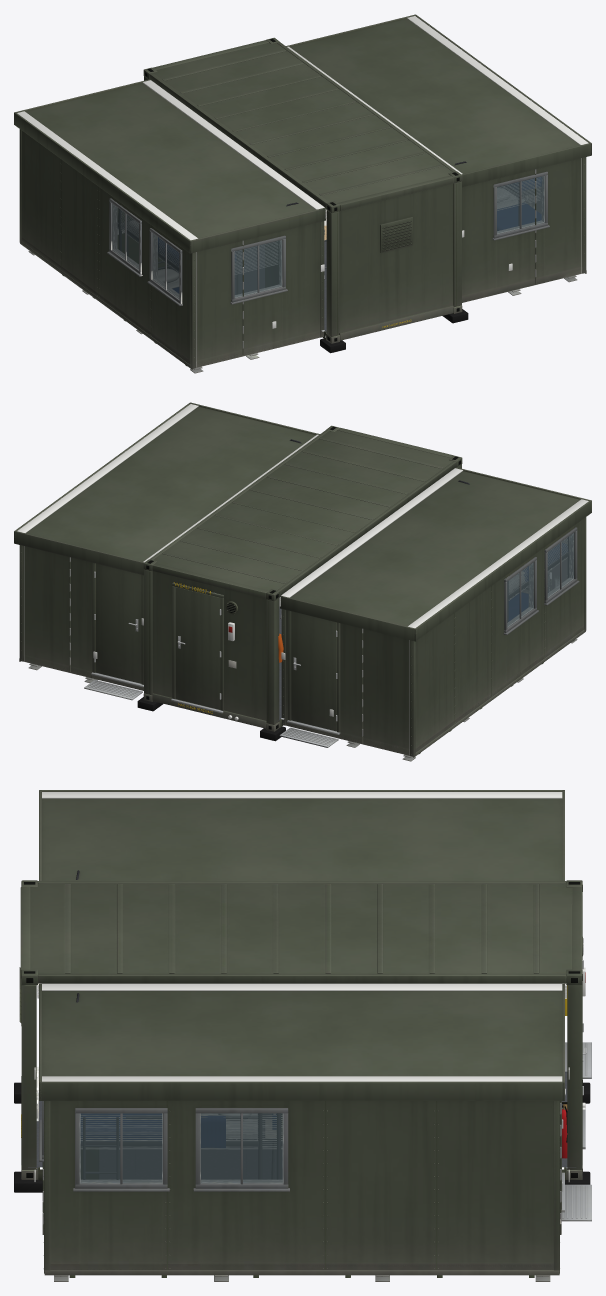
File: hercon-deployed-fitted-web.glb
The picture shows the model from 3 angles, top to bottom: view 1: azimuth 30°, elevation 25°; view 2: azimuth 150°, elevation 25°; view 3: azimuth 270°, elevation 25°; orthographic projection. The views are drawn at different scales.
Parts seen in each view (by area): view 1: HERCON_expansion_L, HERCON_core, HERCON_expansion_R, HERCON_fitout; view 2: HERCON_expansion_L, HERCON_core, HERCON_expansion_R, HERCON_fitout; view 3: HERCON_expansion_R, HERCON_core, HERCON_expansion_L, HERCON_fitout.
Boxes of the visible parts, left/top/right/bottom form: HERCON_expansion_L: left=14, top=79, right=325, bottom=373; HERCON_core: left=143, top=37, right=468, bottom=353; HERCON_expansion_R: left=286, top=14, right=591, bottom=302; HERCON_fitout: left=118, top=161, right=540, bottom=333; HERCON_expansion_L: left=279, top=467, right=591, bottom=761; HERCON_core: left=137, top=425, right=462, bottom=741; HERCON_expansion_R: left=14, top=402, right=319, bottom=700; HERCON_fitout: left=277, top=439, right=568, bottom=721; HERCON_expansion_R: left=39, top=983, right=591, bottom=1281; HERCON_core: left=14, top=880, right=590, bottom=1192; HERCON_expansion_L: left=39, top=790, right=591, bottom=1078; HERCON_fitout: left=28, top=870, right=575, bottom=1179.
Bounding box in the file's own units: 7.48 × 2.56 × 6.24.
Materials: 71 (30 with a texture image).
